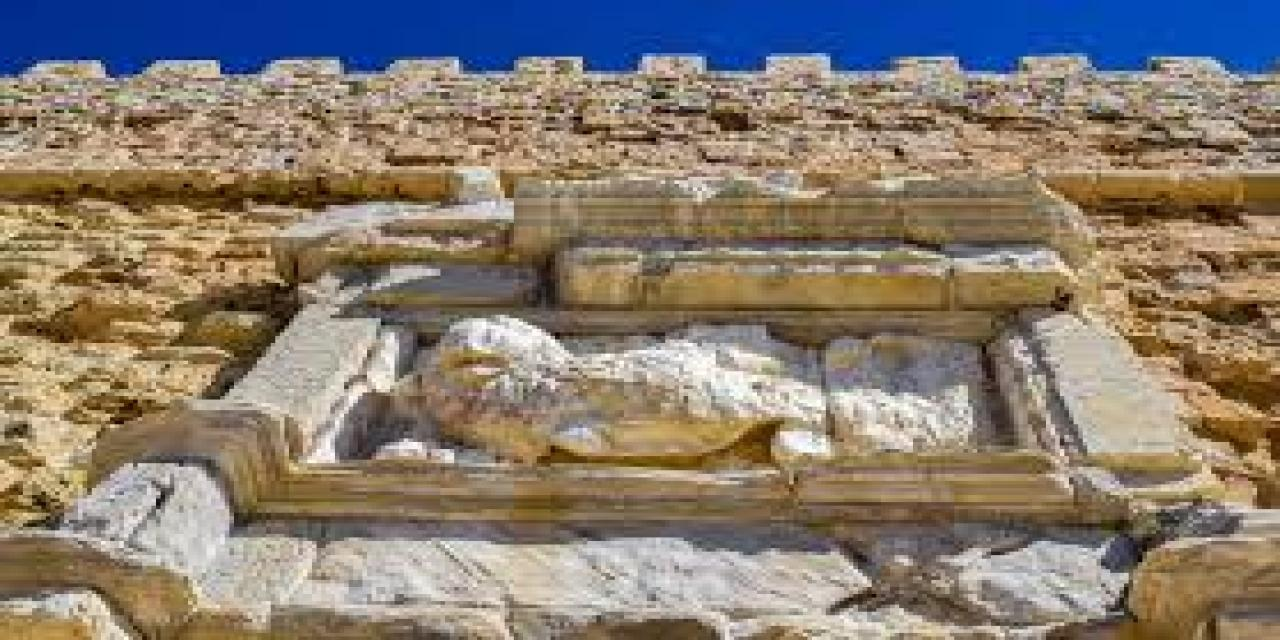Kules: (1, 74, 1280, 640)
